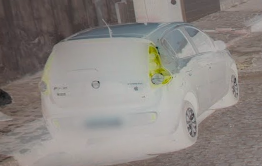car: (37, 23, 240, 152)
